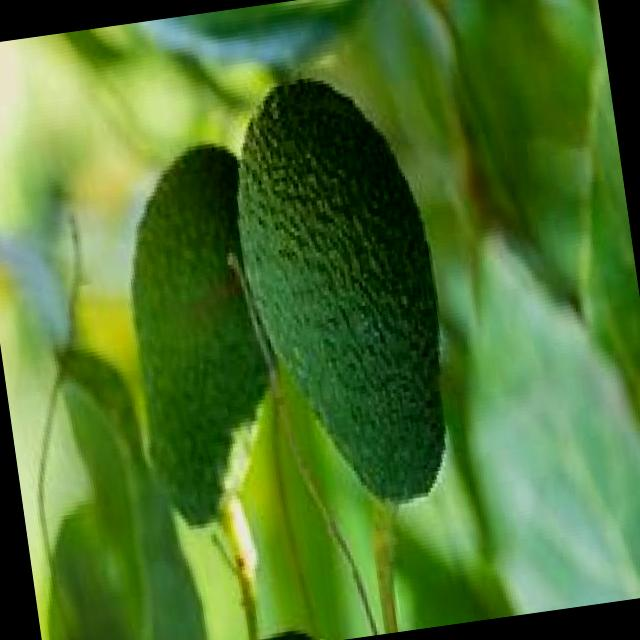avocado: (226, 68, 475, 520), (103, 142, 304, 540)
